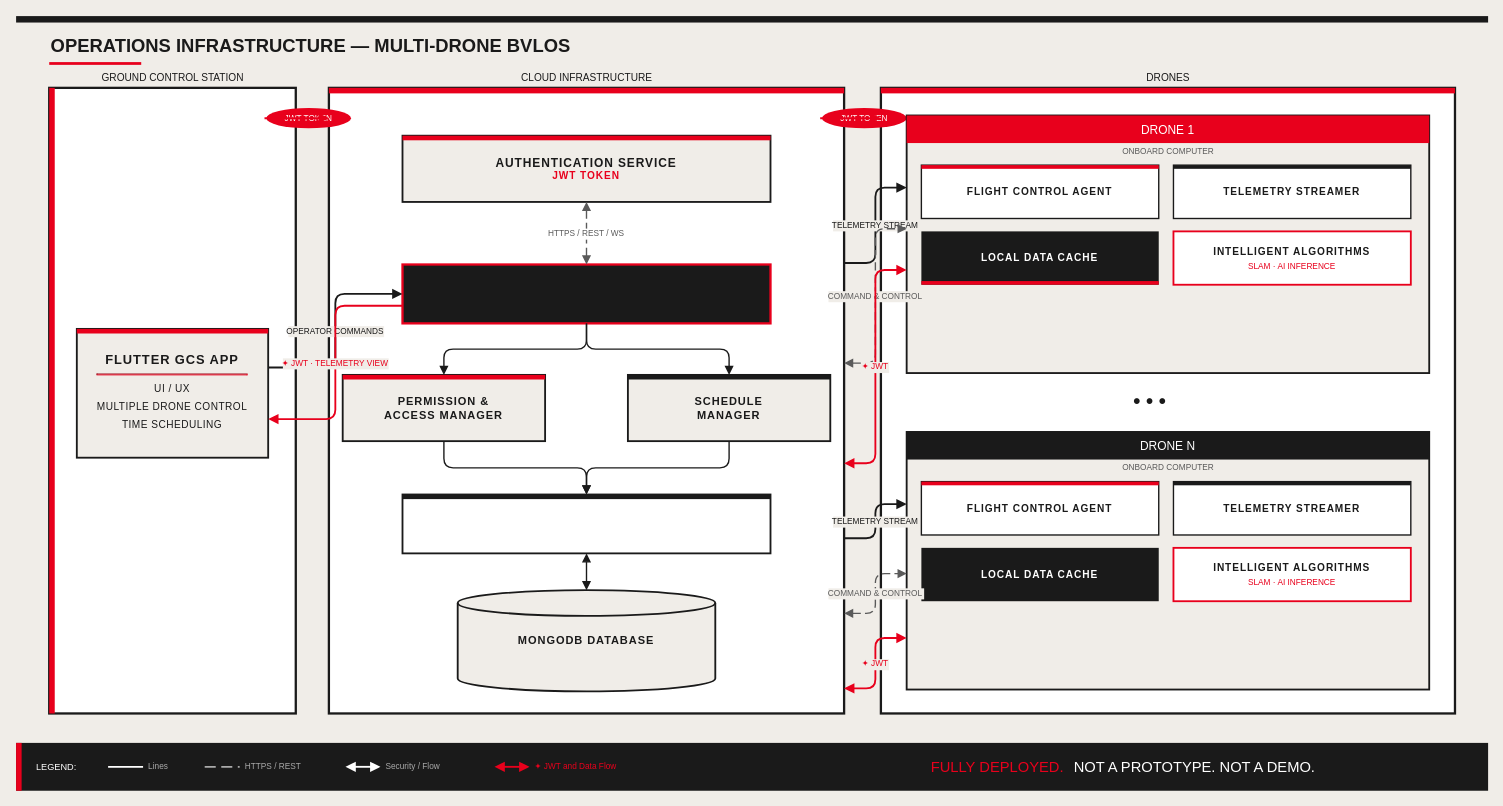
Some shapes in this 1503 by 806 pixel diagram are drawn without their labels. Each missing label, with the box of its shape:
API GATEWAY / CONTROL LOGIC: (401, 263, 771, 324)
CLIENT INTEGRATION API: (401, 493, 771, 554)
